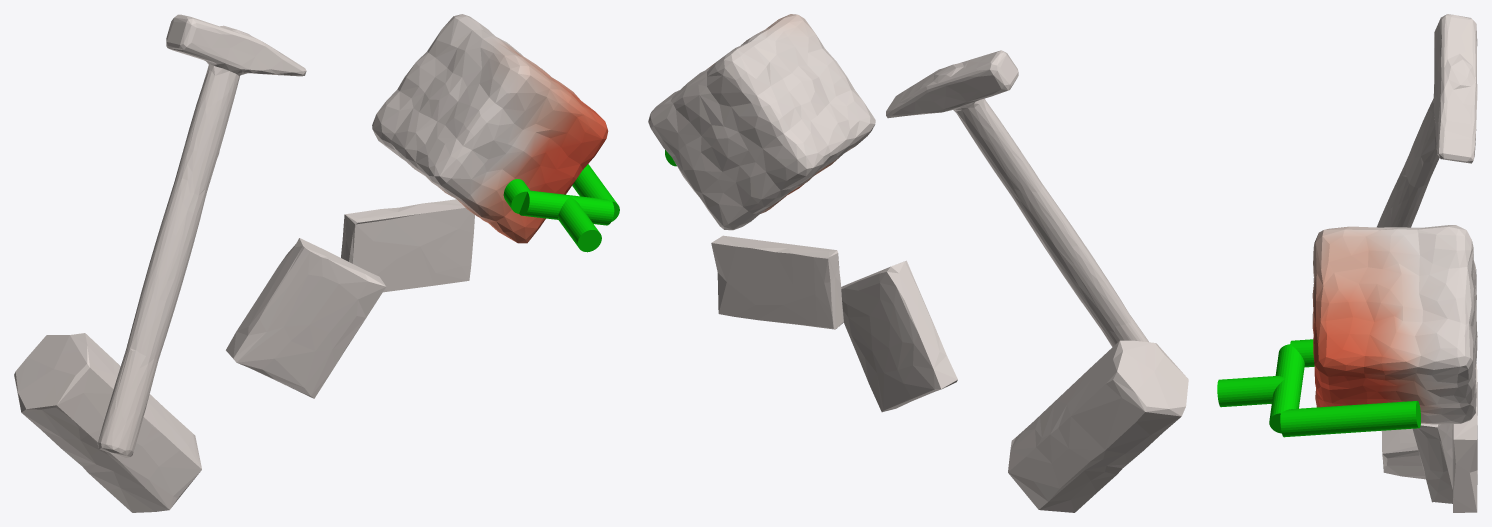
The model's file is round_000_trial_001.obj.
3 views of the same model, side by side, from view 1: azimuth 30°, elevation 25°; view 2: azimuth 150°, elevation 25°; view 3: azimuth 270°, elevation 25° (orthographic). The views are drawn at different scales.
Visible parts, largest first — view 1: geometry_0, geometry_1; view 2: geometry_0; view 3: geometry_0, geometry_1.
Part boxes in pixels (x1,y1,x2,y2): geometry_0: (14, 14, 608, 512); geometry_1: (503, 164, 619, 252); geometry_0: (648, 14, 1188, 512); geometry_0: (1312, 14, 1477, 512); geometry_1: (1217, 339, 1420, 437).
Bounding box in the file's own units: 0.2412 × 0.1997 × 0.0943.
